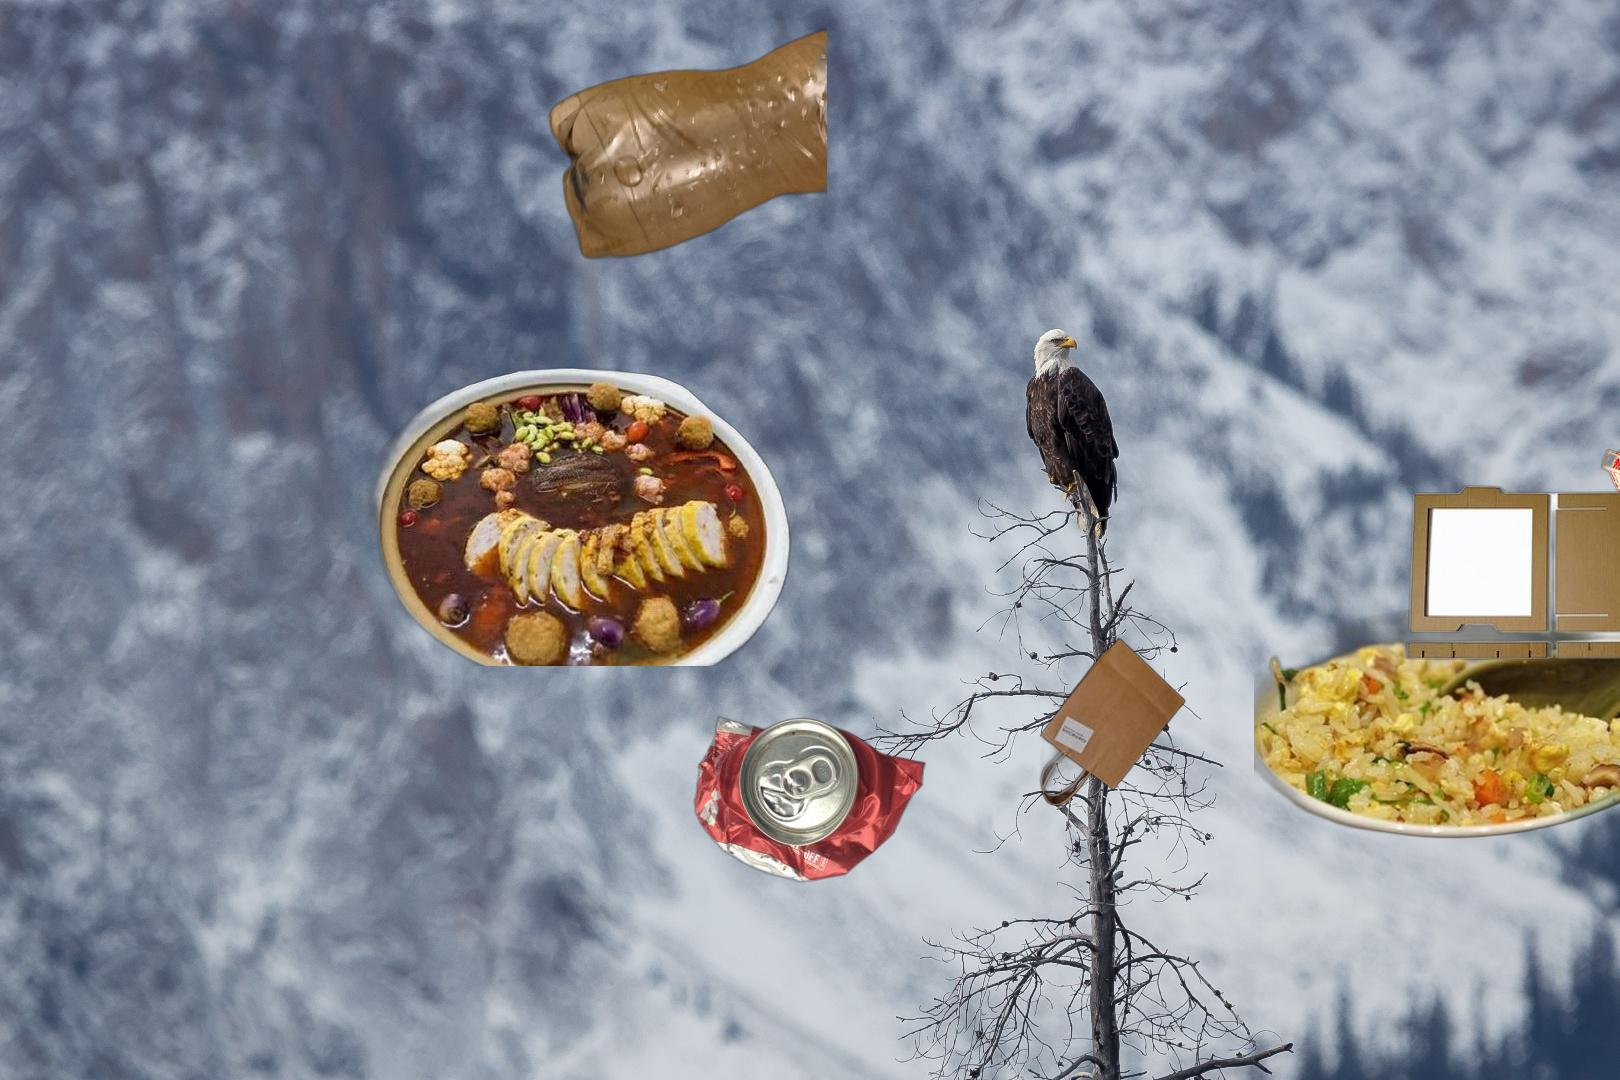biological: (307, 365, 796, 667), (1254, 605, 1620, 853)
metal-cans: (689, 714, 931, 885)
paper-bag: (1038, 635, 1187, 808)
penholder: (1598, 392, 1620, 575)
plastic-bottles: (546, 23, 827, 263)
trashbox-cardboard: (1402, 482, 1620, 663)
